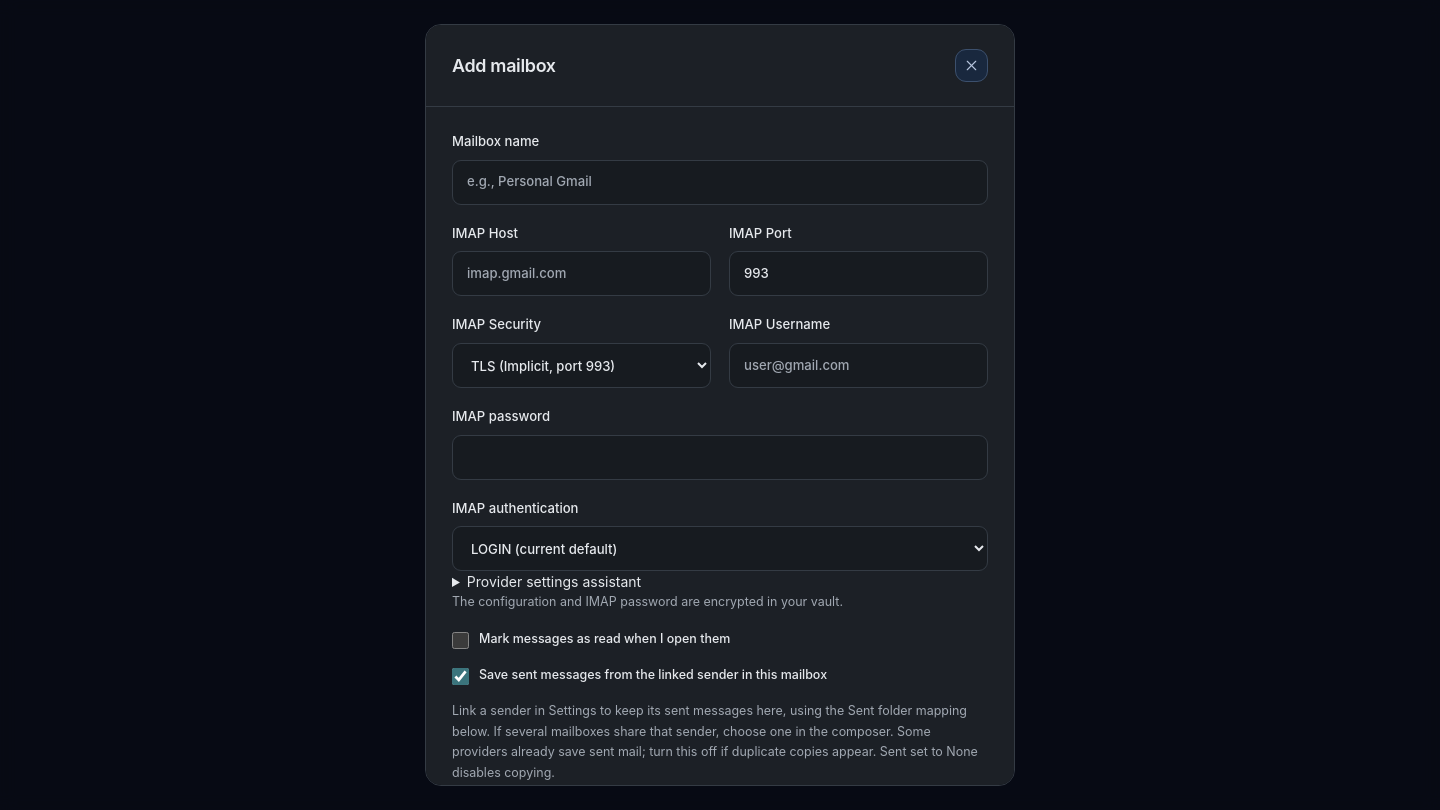
it: IMAP account creation › selects the corresponding default port when changing IMAP security
The width and height of the screenshot is (1440, 810).
Select "STARTTLS (Explicit, port 143)" in the dropdown labelled "IMAP Security": (582, 366) [452,343,711,388]
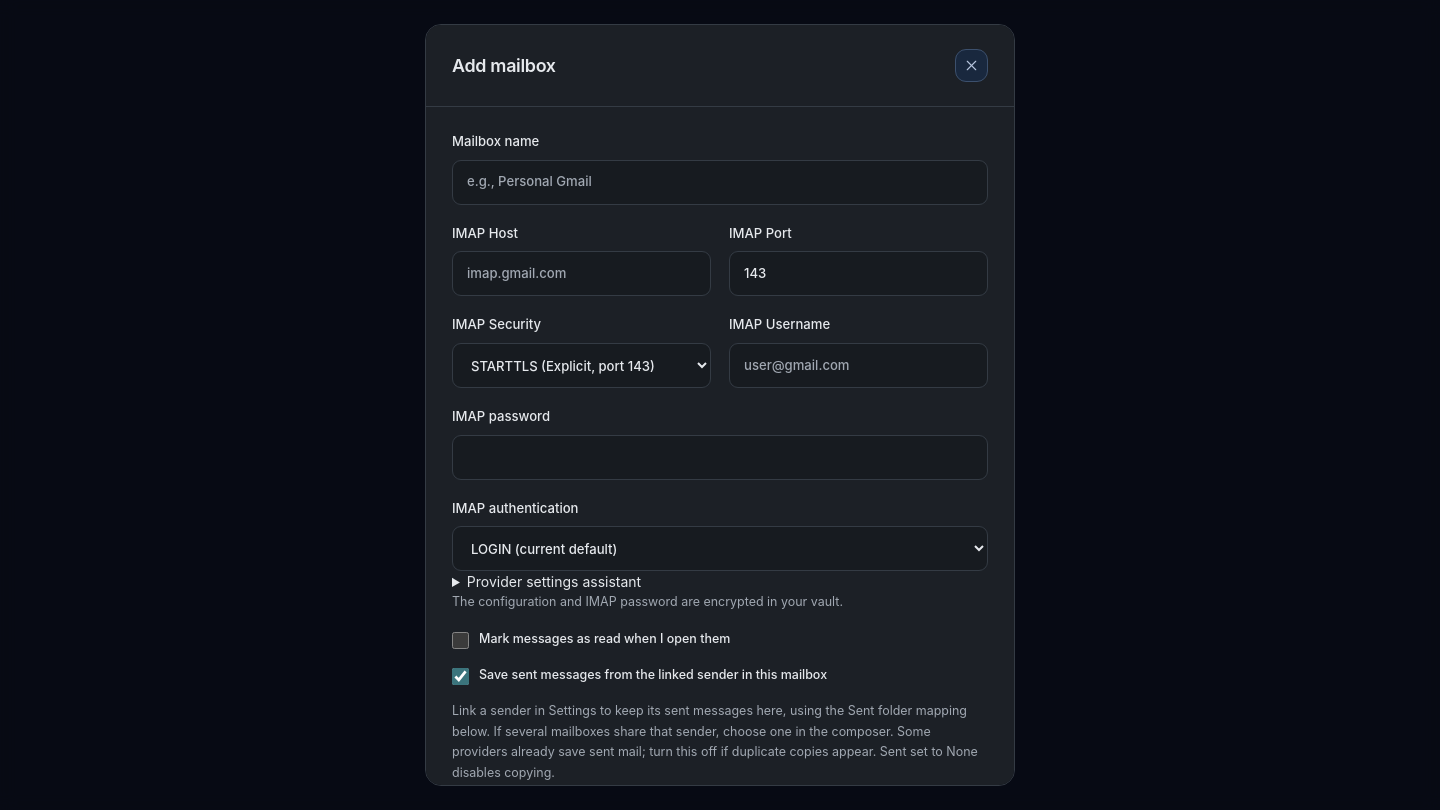
Now the number field labelled "IMAP Port" holds "143", box [729,251,988,296]
Select "TLS (Implicit, port 993)" in the dropdown labelled "IMAP Security": (582, 366) [452,343,711,388]
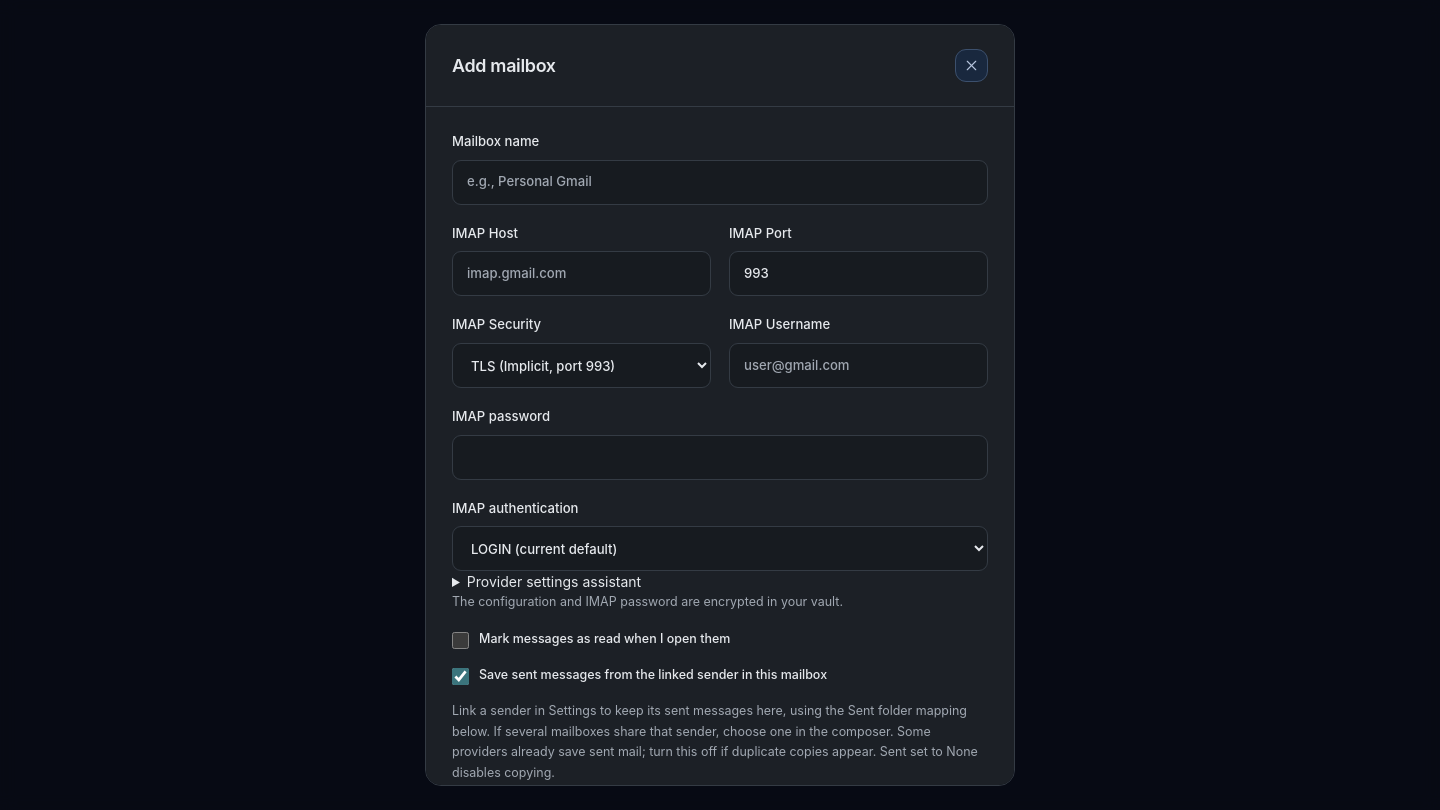
Now the number field labelled "IMAP Port" holds "993", box [729,251,988,296]
